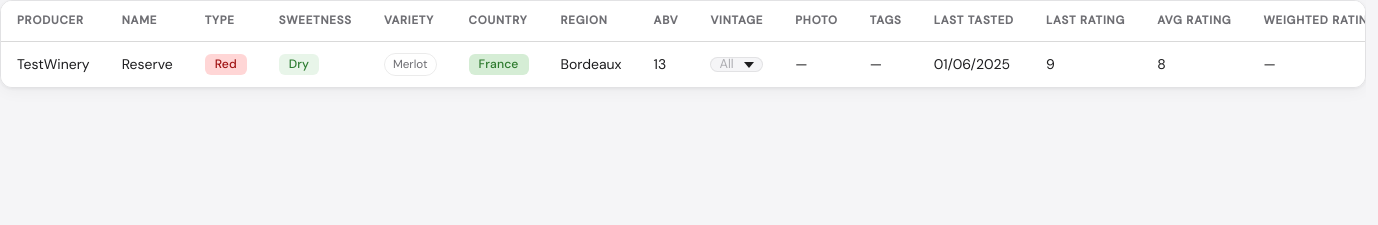
Test: selecting a vintage filters avgRating and tastingCount
Click the button "All". click: x=737, y=65
box: [710,57,763,72]
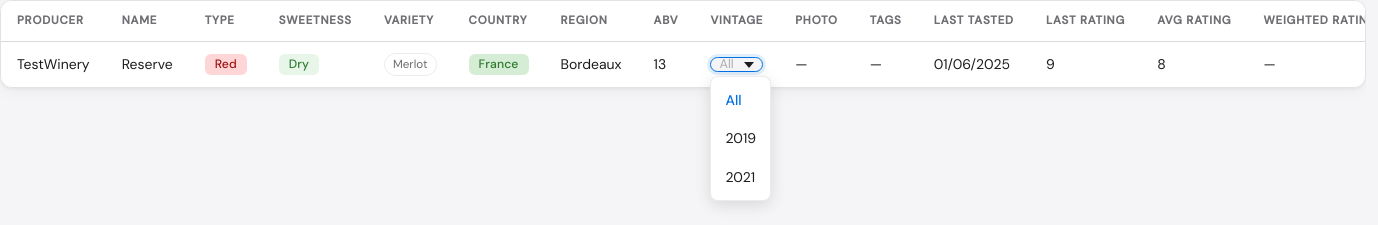
Press the mouse on the list item "2019" at x=741, y=138, box [725,129,756,147]
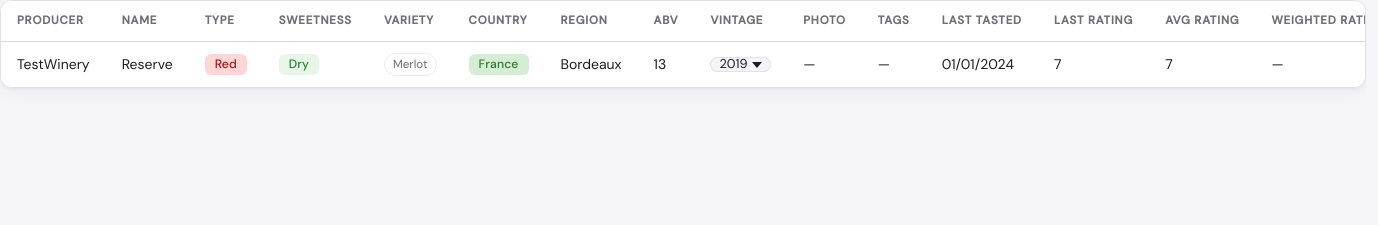
Result: the text "01/01/2024" is shown at [926,42,1038,87]
